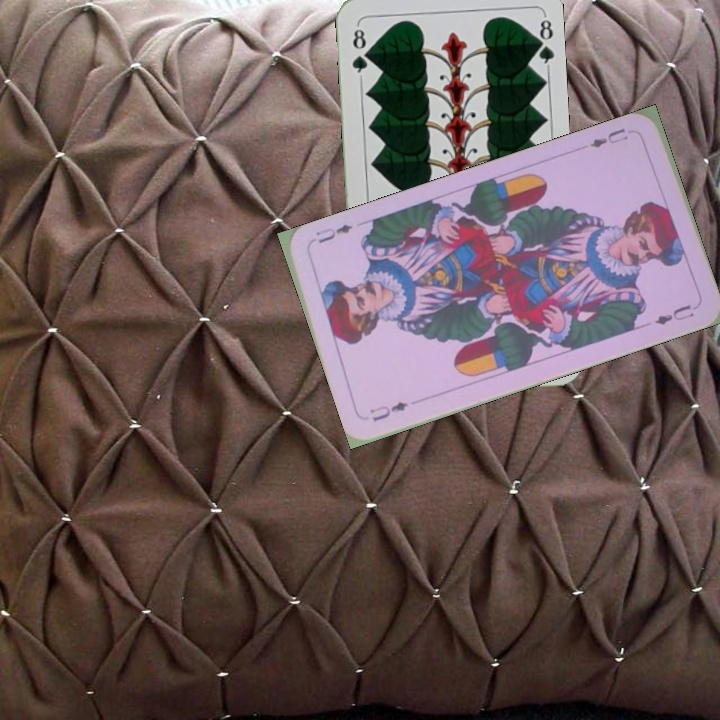EU: (586, 124, 631, 151), (365, 397, 410, 424)
G8: (348, 22, 371, 81)
